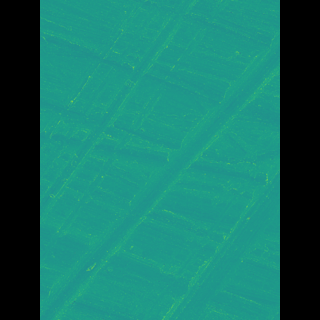Loch: (69, 28, 249, 320), (69, 0, 191, 228), (163, 166, 250, 320)
